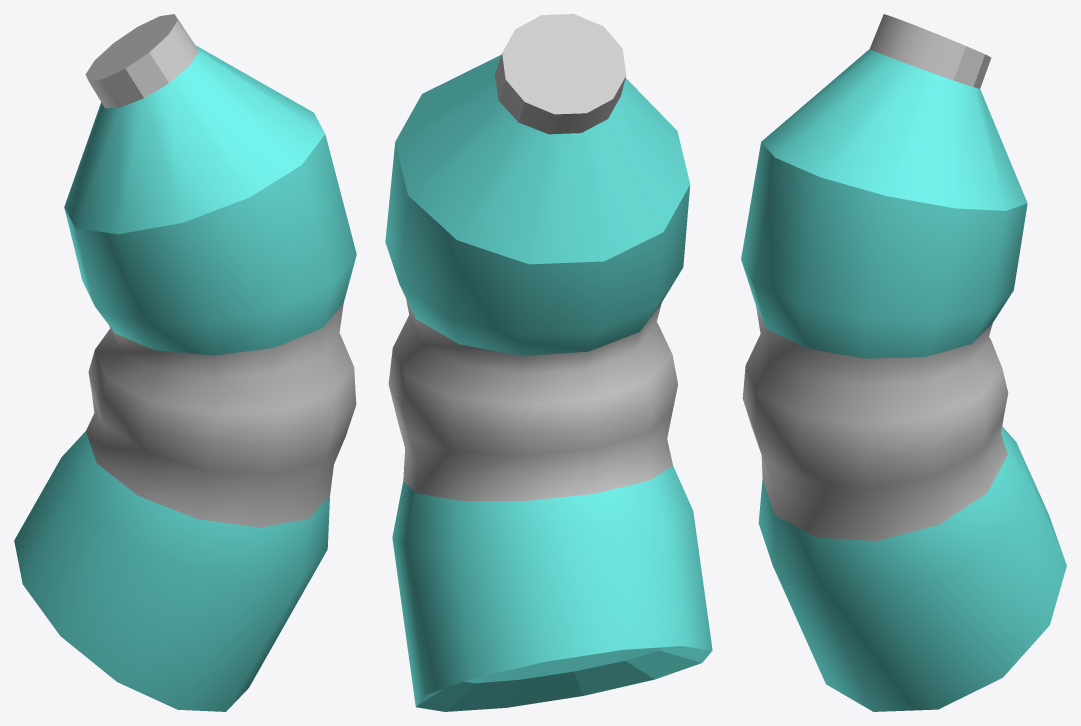
The model's file is botellaAgua1.fbx.
3 views of the same model, side by side, from view 1: azimuth 30°, elevation 25°; view 2: azimuth 150°, elevation 25°; view 3: azimuth 270°, elevation 25° (orthographic). The views are drawn at different scales.
Parts seen in each view (by area): view 1: Object001; view 2: Object001; view 3: Object001.
Boxes of the visible parts, box(x1,y1,x2,y2) form: Object001: box(14, 14, 356, 711); Object001: box(385, 14, 712, 711); Object001: box(741, 14, 1066, 711).
Bounding box in the file's own units: 10.44 × 23.2 × 10.34.
